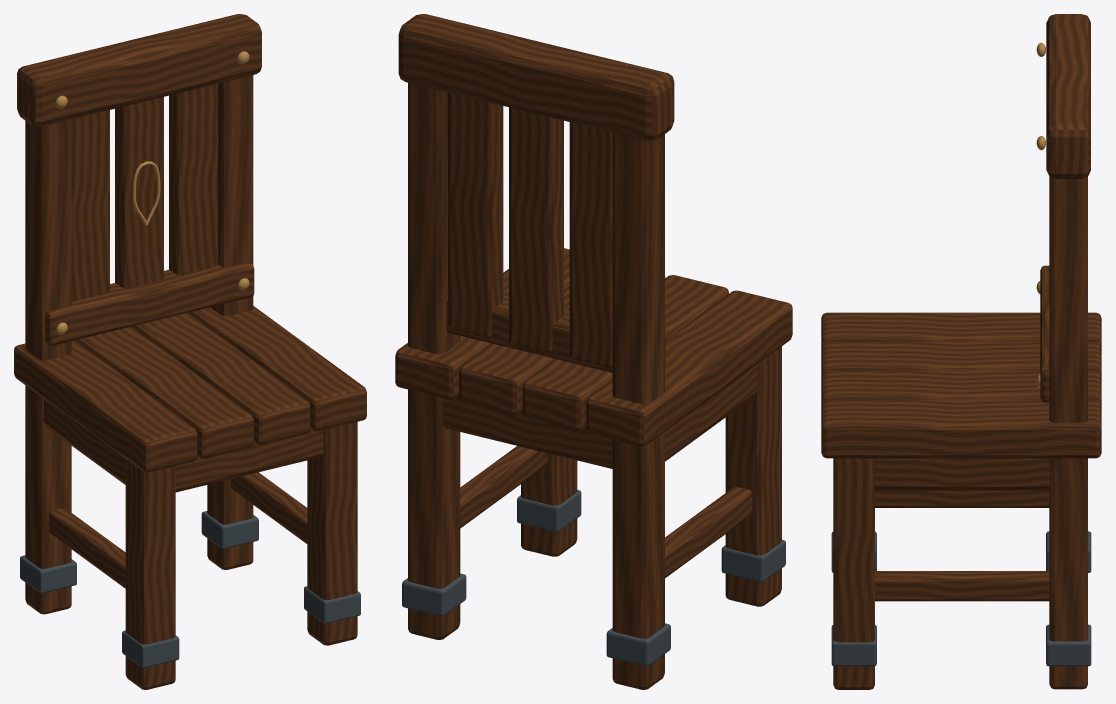
File: Chair.glb
The picture shows the model from 3 angles, left to right: view 1: azimuth 30°, elevation 25°; view 2: azimuth 150°, elevation 25°; view 3: azimuth 270°, elevation 25°; orthographic projection. The views are drawn at different scales.
Visible parts, largest first — view 1: Rear_Leg_And_Backpost, Crown_Rail, Seat_Plank, Front_Leg, Rear_Leg_And_Backpost.001, Front_Leg.001, Backrest_Slat.002, Seat_Plank.001, Seat_Plank.002, Backrest_Slat.001, Seat_Plank.003, Back_Lower_Rail (+10 smaller); view 2: Rear_Leg_And_Backpost, Rear_Leg_And_Backpost.001, Crown_Rail, Seat_Plank, Backrest_Slat.002, Backrest_Slat.001, Backrest_Slat, Front_Leg, Seat_Plank.001, Seat_Cross_Rail.001, Seat_Plank.002, Seat_Plank.003 (+9 smaller); view 3: Rear_Leg_And_Backpost.001, Seat_Plank.003, Front_Leg.001, Crown_Rail, Seat_Plank.001, Seat_Plank, Seat_Plank.002, Side_Seat_Rail.001, Low_Side_Stretcher.001, Low_Side_Stretcher, Back_Lower_Rail, Foot_Iron_Collar.003 (+1 smaller).
Boxes of the visible parts, x1,y1,x2,y2 form: Rear_Leg_And_Backpost: (25, 119, 71, 614); Crown_Rail: (17, 14, 261, 126); Seat_Plank: (14, 340, 197, 472); Front_Leg: (125, 459, 175, 689); Rear_Leg_And_Backpost.001: (207, 75, 253, 569); Front_Leg.001: (307, 422, 357, 645); Backrest_Slat.002: (169, 83, 217, 274); Seat_Plank.001: (75, 326, 253, 458); Seat_Plank.002: (132, 313, 310, 444); Backrest_Slat.001: (115, 97, 163, 288); Seat_Plank.003: (188, 306, 366, 431); Back_Lower_Rail: (45, 262, 254, 345); Rear_Leg_And_Backpost: (612, 132, 664, 689); Rear_Leg_And_Backpost.001: (408, 82, 460, 639); Crown_Rail: (398, 14, 674, 140); Seat_Plank: (586, 290, 792, 446); Backrest_Slat.002: (448, 92, 503, 338); Backrest_Slat.001: (509, 107, 563, 353); Backrest_Slat: (569, 122, 612, 368); Front_Leg: (725, 346, 781, 606); Seat_Plank.001: (522, 275, 728, 430); Seat_Cross_Rail.001: (442, 396, 612, 468); Seat_Plank.002: (459, 276, 665, 415); Seat_Plank.003: (395, 248, 569, 399); Rear_Leg_And_Backpost.001: (1049, 176, 1087, 689); Seat_Plank.003: (821, 399, 1101, 458); Front_Leg.001: (833, 458, 874, 689); Crown_Rail: (1046, 14, 1090, 178); Seat_Plank.001: (821, 341, 1101, 375); Seat_Plank: (821, 312, 1101, 346); Seat_Plank.002: (821, 370, 1101, 404); Side_Seat_Rail.001: (874, 458, 1050, 490); Low_Side_Stretcher.001: (875, 571, 1049, 601); Low_Side_Stretcher: (875, 490, 1049, 507); Back_Lower_Rail: (1040, 265, 1049, 402); Foot_Iron_Collar.003: (1046, 624, 1091, 666).
Bounding box in the file's own units: 0.47 × 1.05 × 0.47.
Materials: 3 (1 with a texture image).
